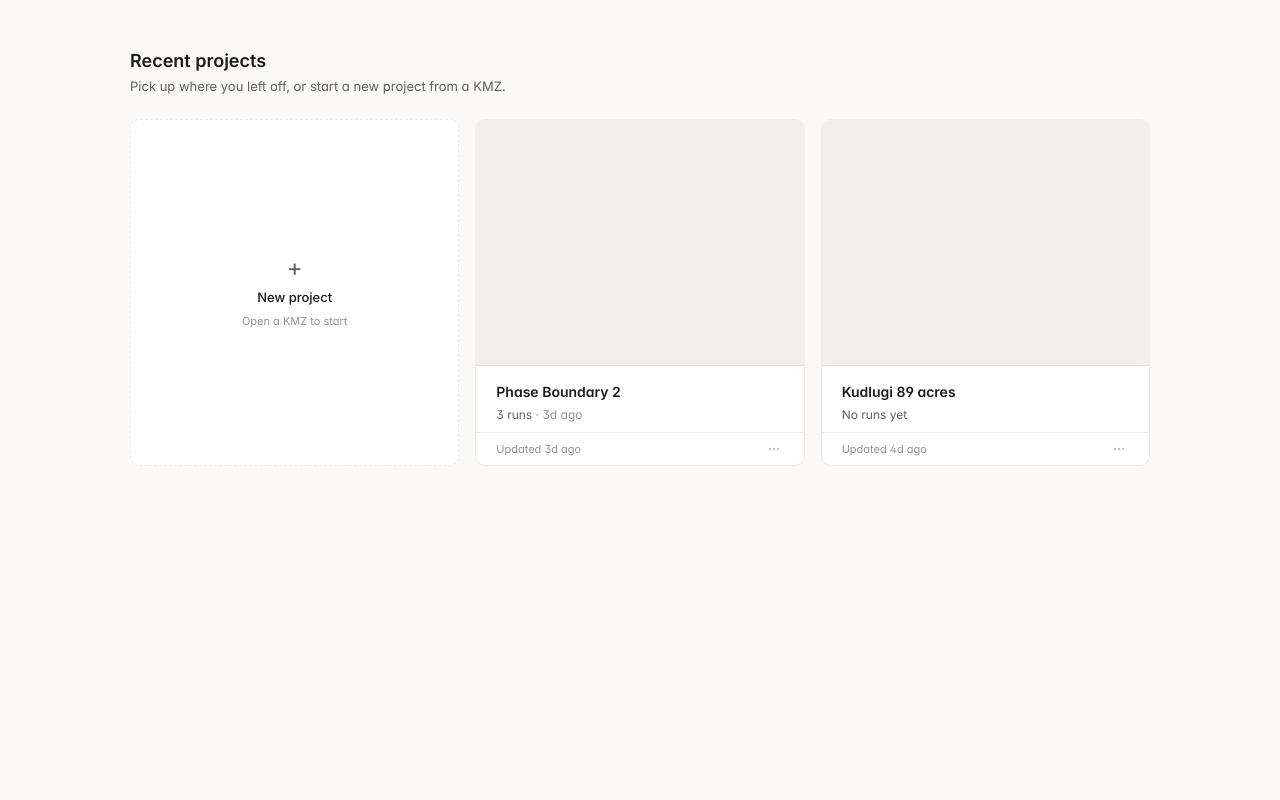
Scenario: RecentsView › SP3 — ⋯ menu + Rename / Delete dialogs › ⋯ → Delete opens the destructive confirm dialog
Click the button named "More actions for Phase Boundary 2".
click(774, 449)  # box 764,439 -> 784,459
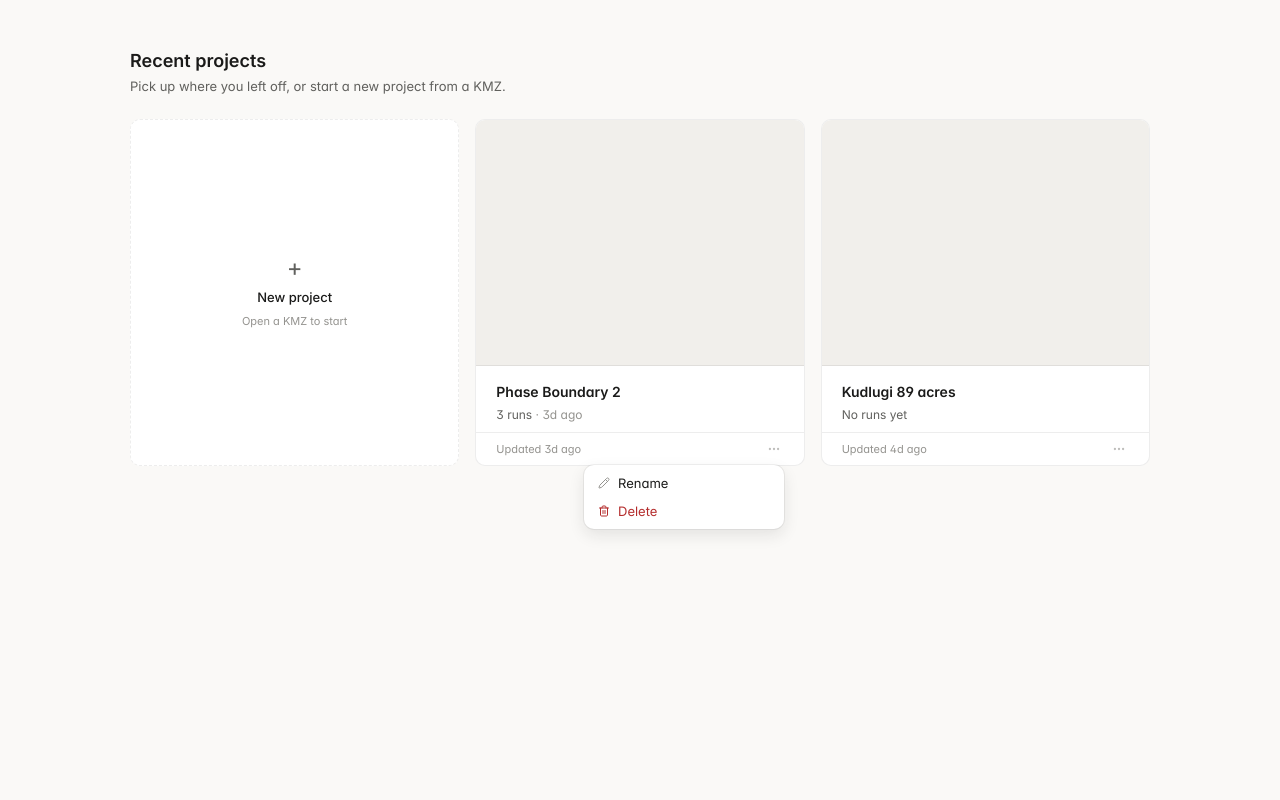
Click the menu item "Delete".
click(628, 511)  # box 598,503 -> 657,519
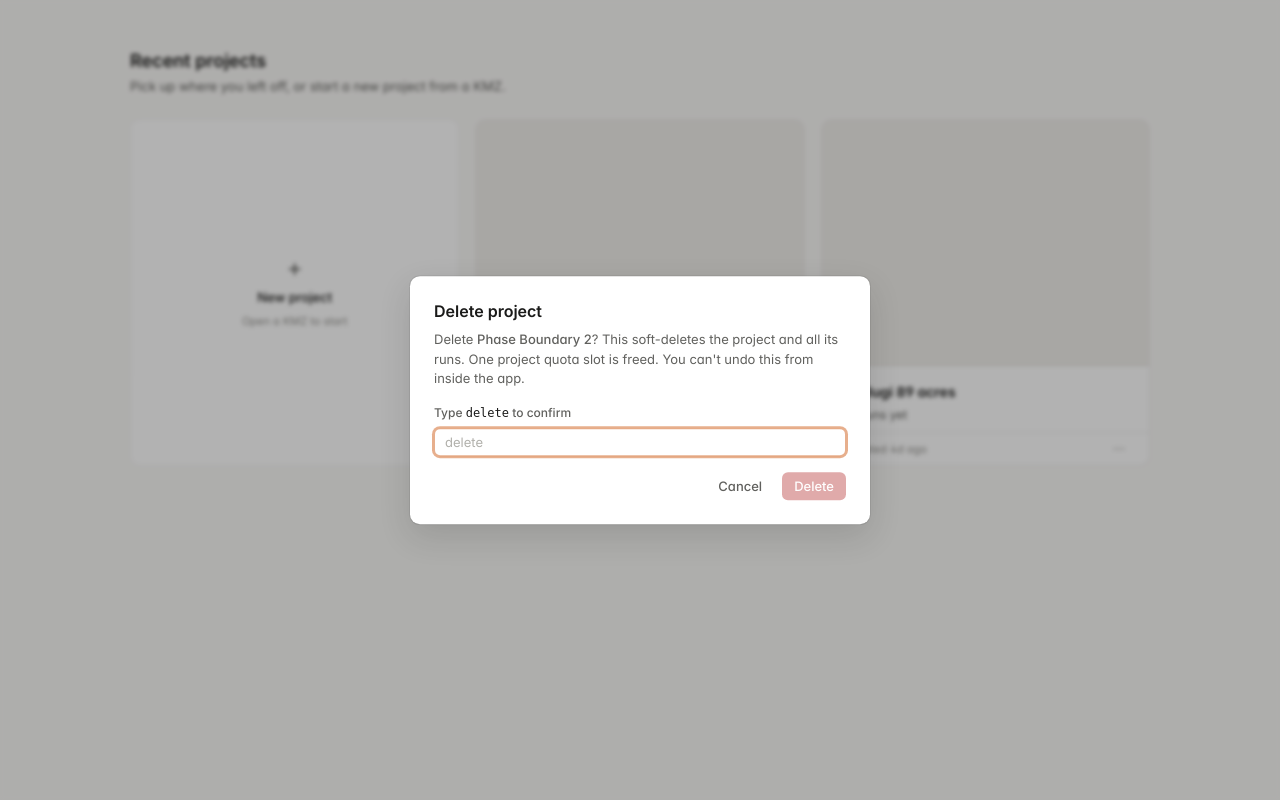
Check: the heading "Delete project" is shown, box 434,301 -> 542,321
Check: the text "Phase Boundary 2" is shown, box 477,332 -> 592,348
